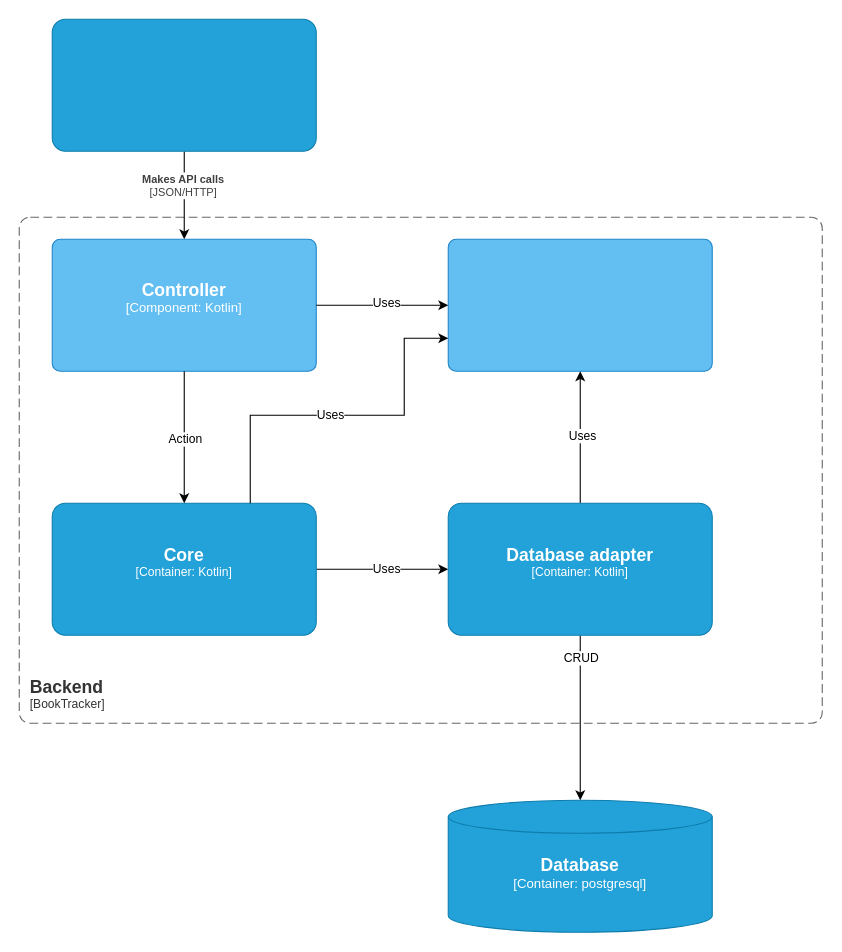
This 842x952 diagram has some shape labels left out. Each missing label, with the centre of its shape:
Model [Component: Kotlin]: the point at 579,304
UI [Container: Web, Vue]: the point at 183,84
